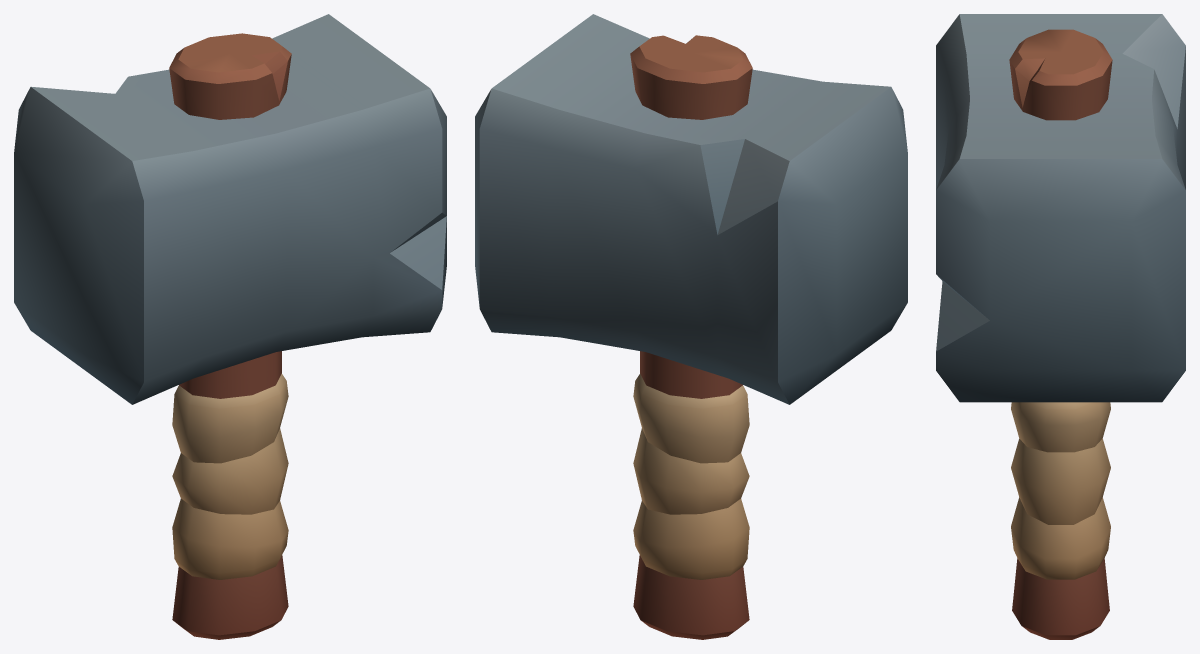
Rendered from KT_hammer.glb.
3 views of the same model, side by side, from view 1: azimuth 30°, elevation 25°; view 2: azimuth 150°, elevation 25°; view 3: azimuth 270°, elevation 25° (orthographic).
Parts seen in each view (by area): view 1: hammer; view 2: hammer; view 3: hammer.
Boxes of the visible parts, bbox=[...] form: hammer: bbox=[14, 14, 446, 639]; hammer: bbox=[475, 14, 907, 639]; hammer: bbox=[936, 14, 1185, 639].
Size of the model in its own units: 0.5434 by 0.8234 by 0.3261.
